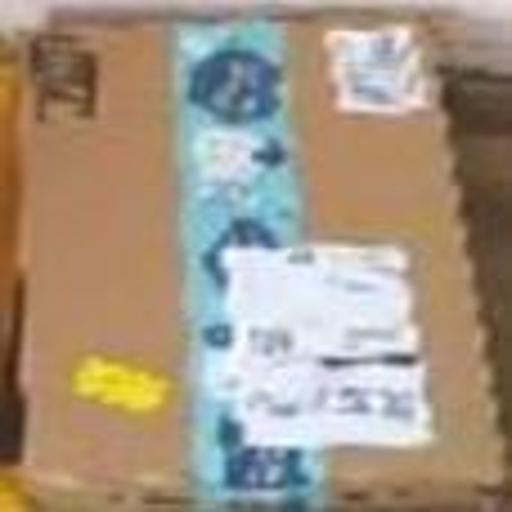Amazon: (31, 35, 489, 491)
